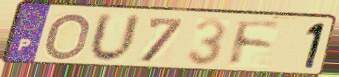1: (301, 21, 328, 73)
3: (185, 16, 230, 68)
7: (140, 15, 186, 65)
F: (227, 19, 283, 69)
O: (42, 12, 93, 62)
U: (87, 11, 144, 65)
